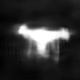plane: (13, 22, 77, 62)
